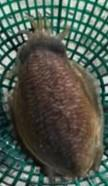Cephalopod: (4, 15, 103, 177)
